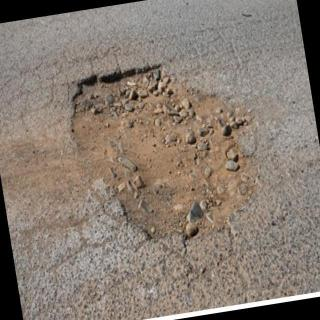pothole: (71, 65, 254, 240)
